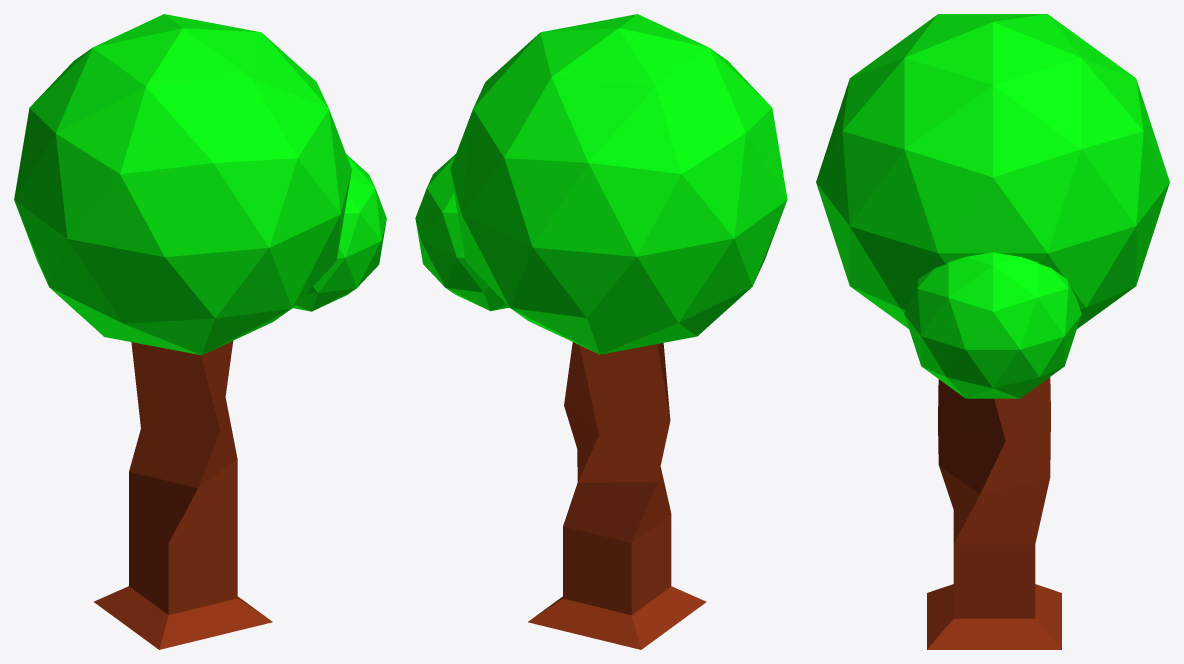
File: Tree.fbx
3 renders of one model, left to right at view 1: azimuth 30°, elevation 25°; view 2: azimuth 150°, elevation 25°; view 3: azimuth 270°, elevation 25°, orthographic. The views are drawn at different scales.
Visible parts, largest first — view 1: Icosphere, Cube, Icosphere.001; view 2: Icosphere, Cube, Icosphere.001; view 3: Icosphere, Cube, Icosphere.001.
Boxes of the visible parts, left/top/right/bottom form: Icosphere: left=14, top=14, right=351, bottom=355; Cube: left=93, top=341, right=272, bottom=649; Icosphere.001: left=293, top=154, right=386, bottom=311; Icosphere: left=450, top=14, right=787, bottom=354; Cube: left=528, top=342, right=706, bottom=649; Icosphere.001: left=415, top=154, right=508, bottom=311; Icosphere: left=816, top=14, right=1169, bottom=328; Cube: left=927, top=377, right=1061, bottom=649; Icosphere.001: left=904, top=252, right=1081, bottom=398.
Size of the model in its own units: 965 by 1621 by 868.
